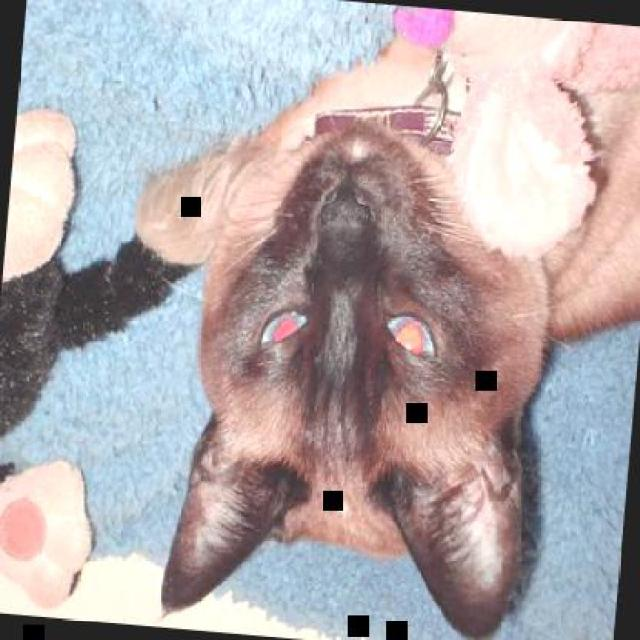cat: (111, 21, 638, 638)
